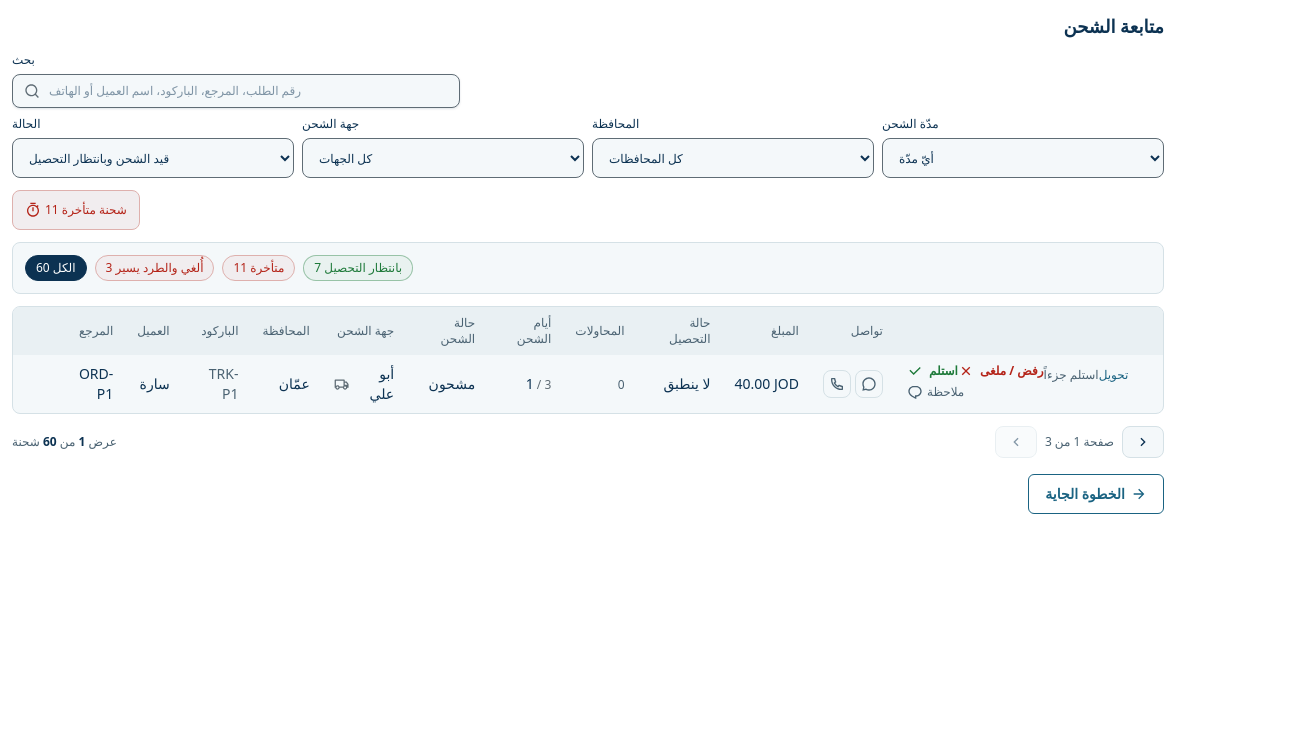
Test: choosing › and «إعادة تعيين» counts the state, the chip, the dropdowns and the word — and puts every one back
Check: the dropdown labelled "جهة الشحن" is shown, box [302,138,584,178]
Select "مرتجع" in the dropdown labelled "الحالة" at (153, 158), box [12,138,294,178]
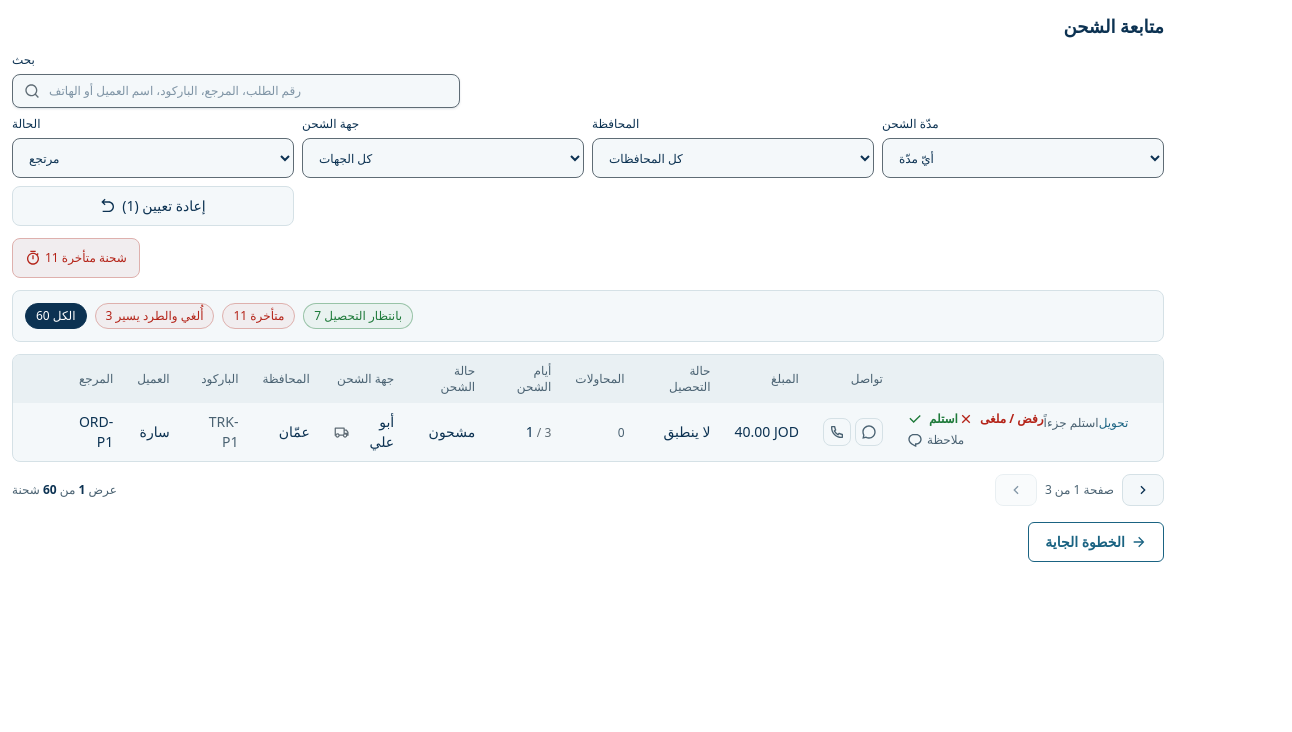
Select "أبو علي (40)" in the dropdown labelled "جهة الشحن" at (443, 158), box [302,138,584,178]
Select "عمّان (45)" in the dropdown labelled "المحافظة" at (733, 158), box [592,138,874,178]
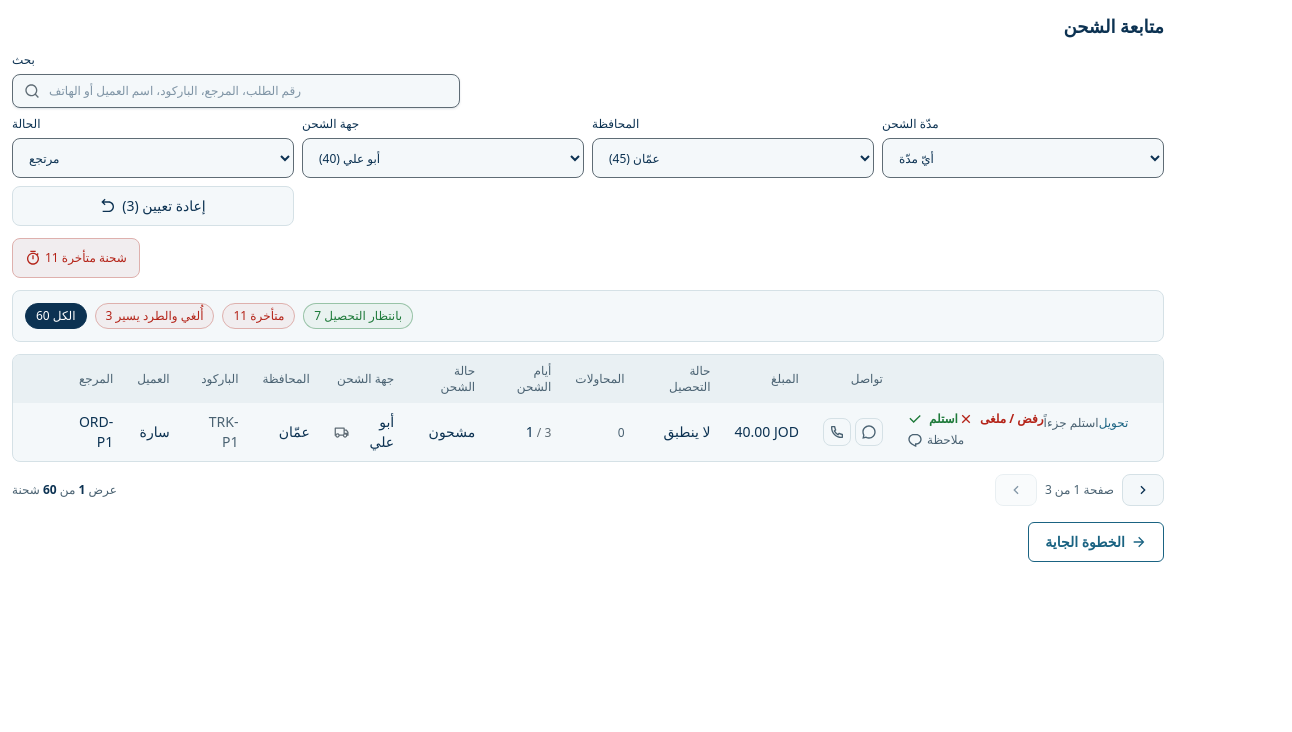
Select "منذ 2–3 أيام (18)" in the dropdown labelled "مدّة الشحن" at (1023, 158), box [882,138,1164,178]
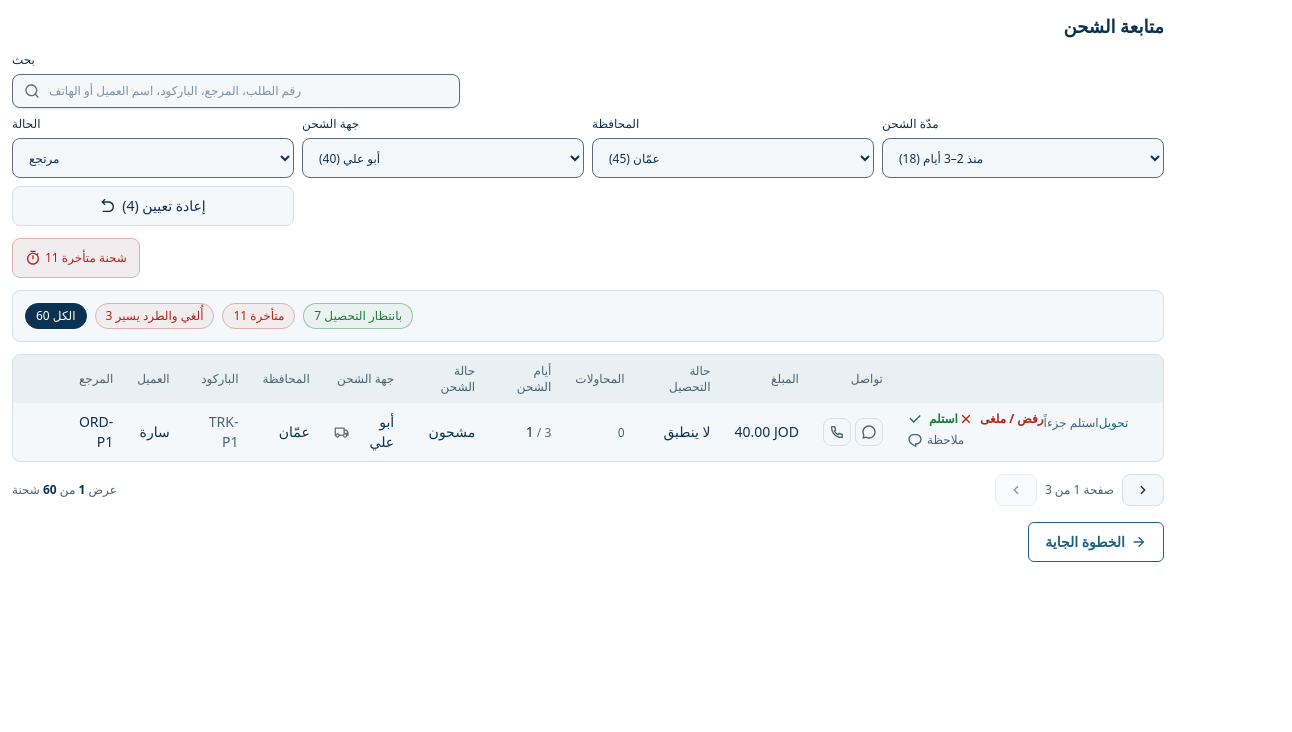
Click the button "متأخرة 11" at (259, 316), box [222,303,295,329]
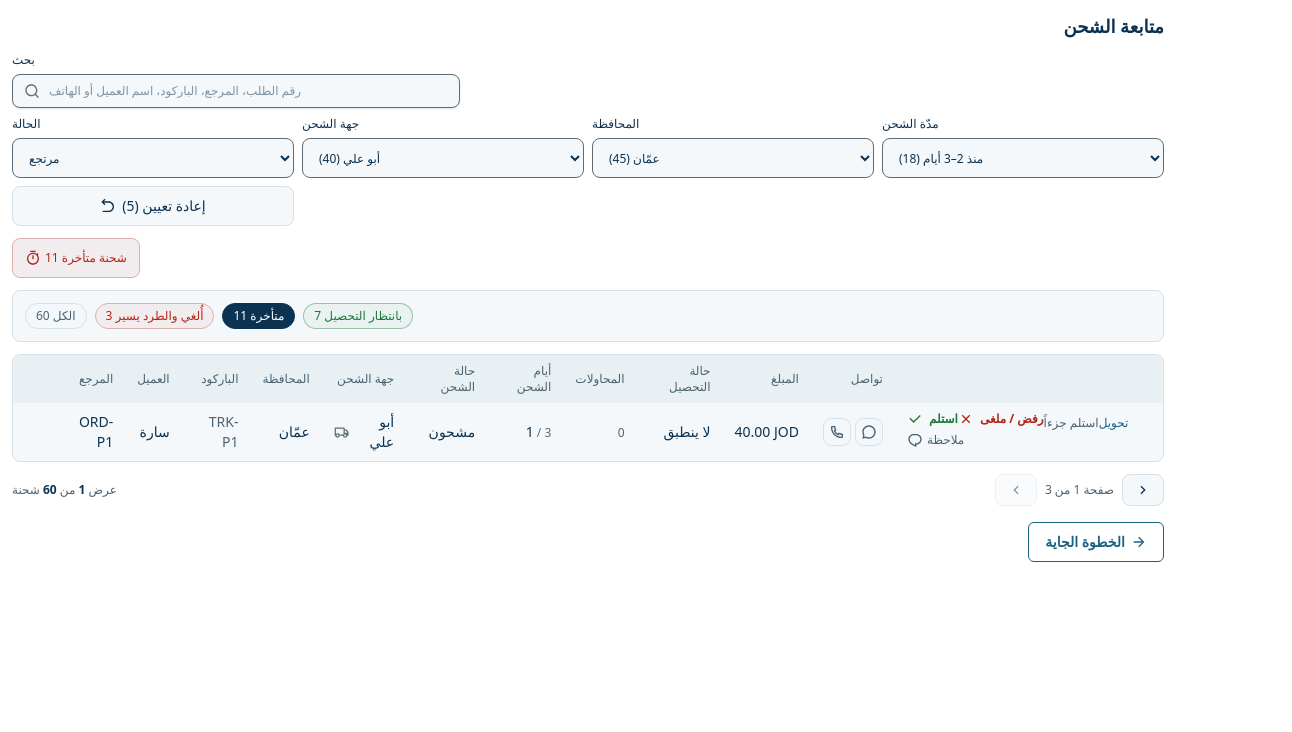
Type "TRK" into the field labelled "بحث" at (236, 91), box [12,74,460,108]
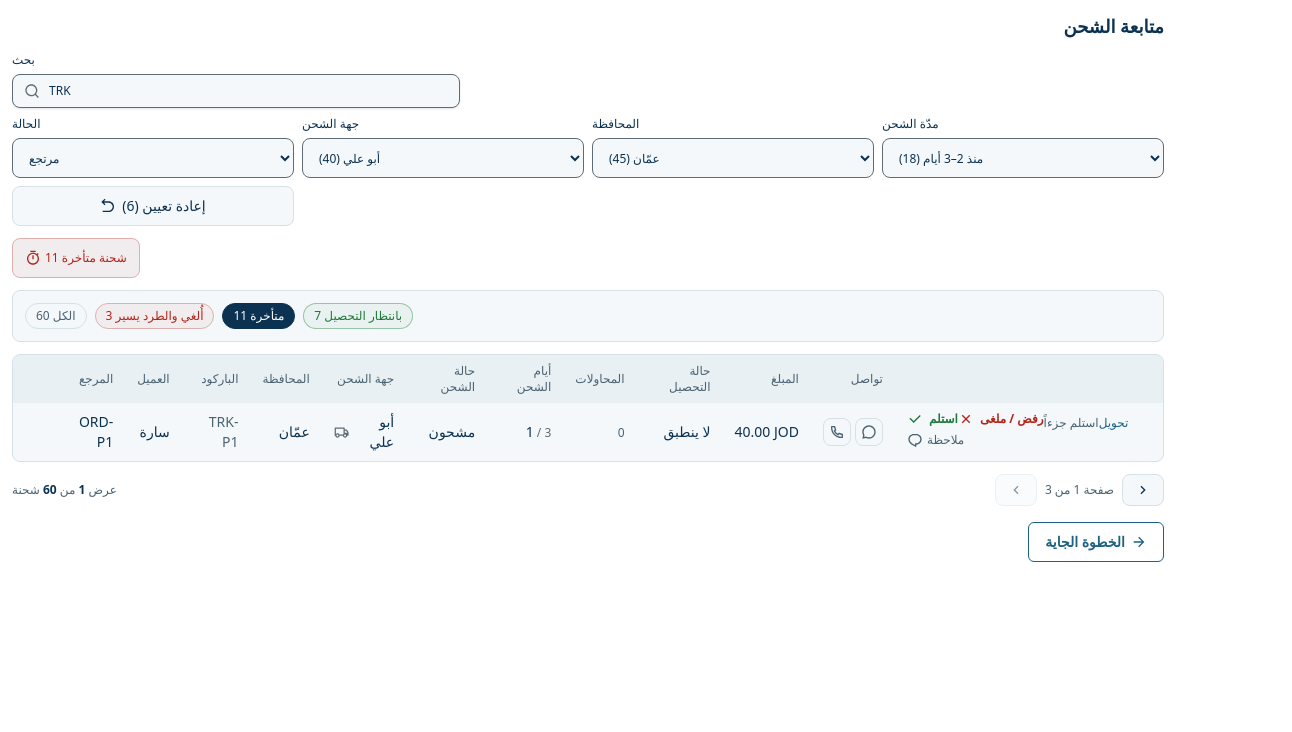
Click the button "إعادة تعيين (6)" at (153, 206), box [12,186,294,226]
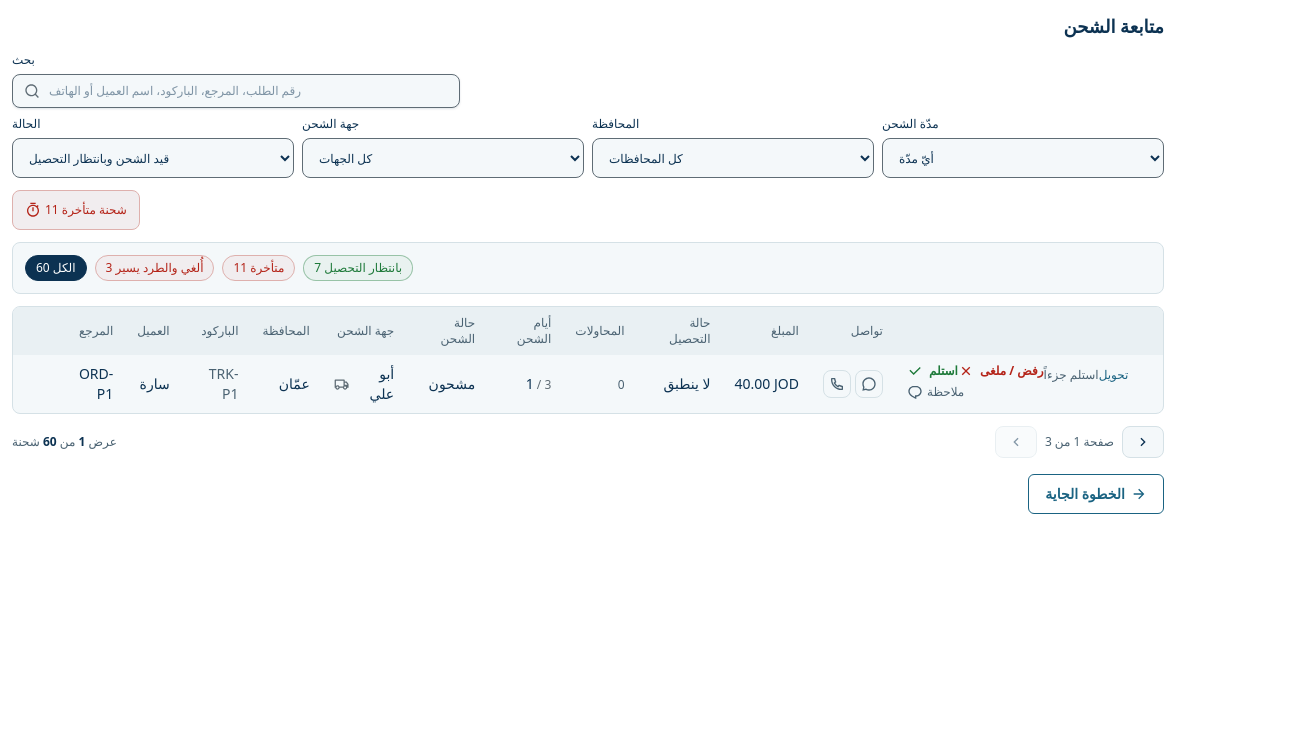
Check: the button "إعادة تعيين" is gone
Check: the field labelled "بحث" is empty, box [12,74,460,108]
